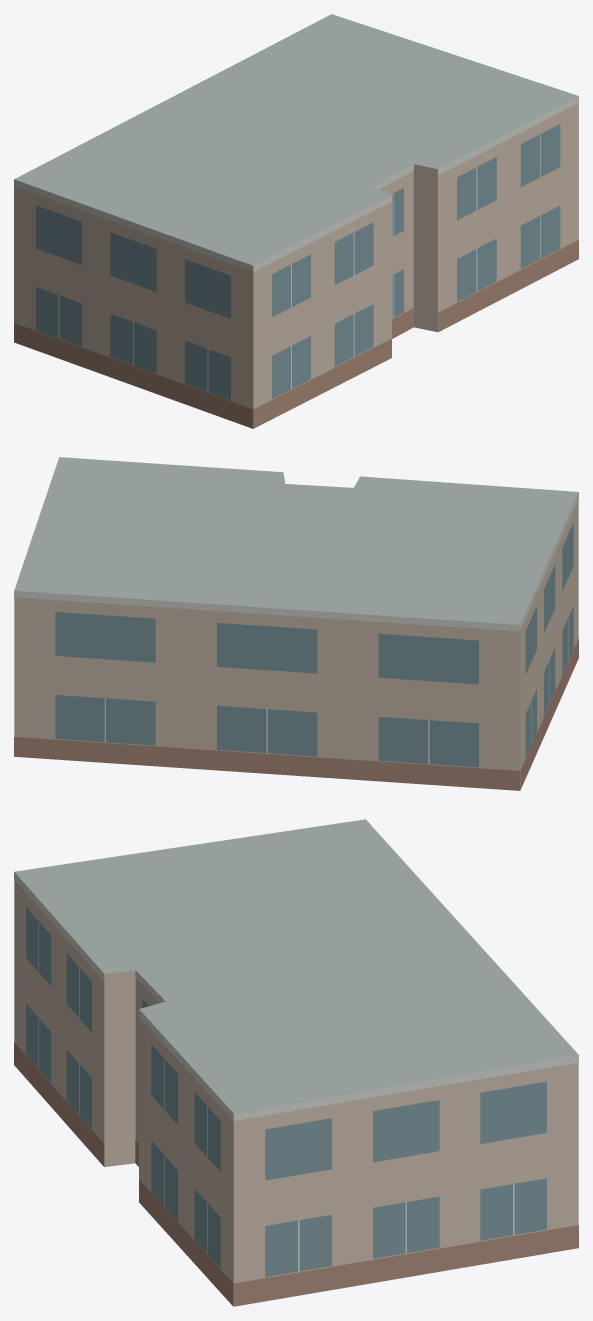
File: survey-upis-33022857.glb
3 renders of one model, top to bottom at view 1: azimuth 30°, elevation 25°; view 2: azimuth 150°, elevation 25°; view 3: azimuth 270°, elevation 25°, orthographic. The views are drawn at different scales.
Visible parts, largest first — view 1: survey-upis-33022857.tmp; view 2: survey-upis-33022857.tmp; view 3: survey-upis-33022857.tmp.
Boxes of the visible parts, left/top/right/bottom form: survey-upis-33022857.tmp: left=14, top=14, right=578, bottom=428; survey-upis-33022857.tmp: left=14, top=457, right=578, bottom=790; survey-upis-33022857.tmp: left=14, top=819, right=578, bottom=1306.
Bounding box in the file's own units: 19.93 × 6.1 × 16.16.
